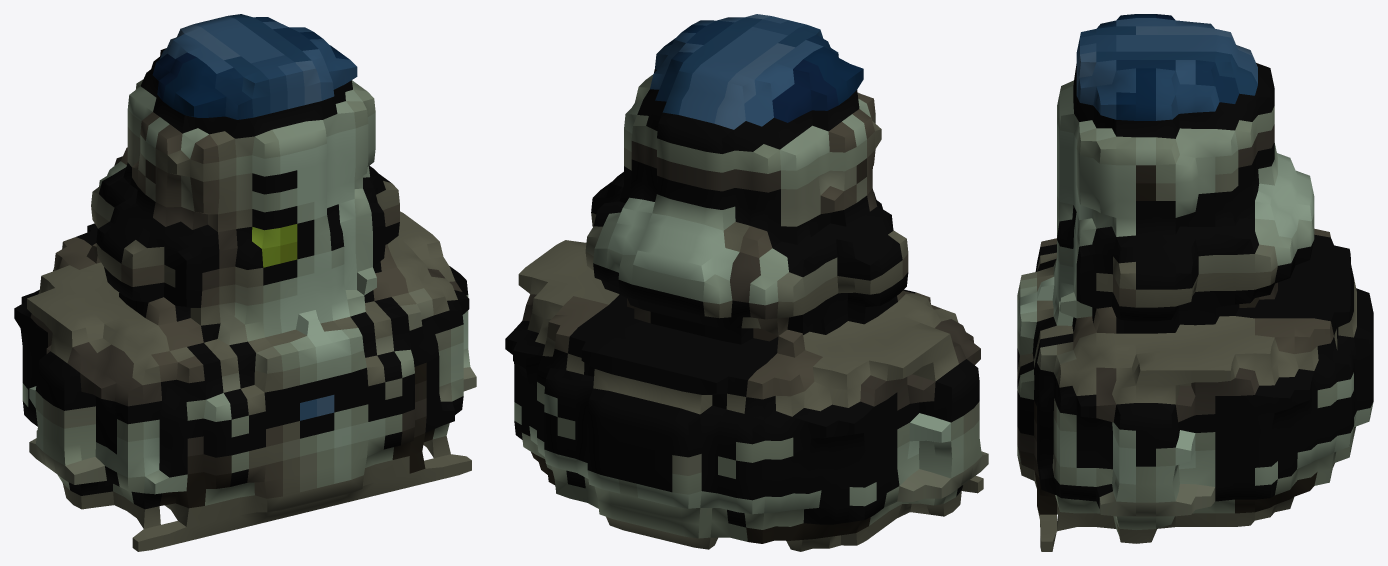
Rendered from Icon_748_03.obj.
The picture shows the model from 3 angles, left to right: view 1: azimuth 30°, elevation 25°; view 2: azimuth 150°, elevation 25°; view 3: azimuth 270°, elevation 25°; orthographic projection. The views are drawn at different scales.
Bounding box in the file's own units: 2.4 × 2.38 × 1.8.
1 material, 1 textured.
